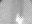person: (14, 17, 22, 23)
